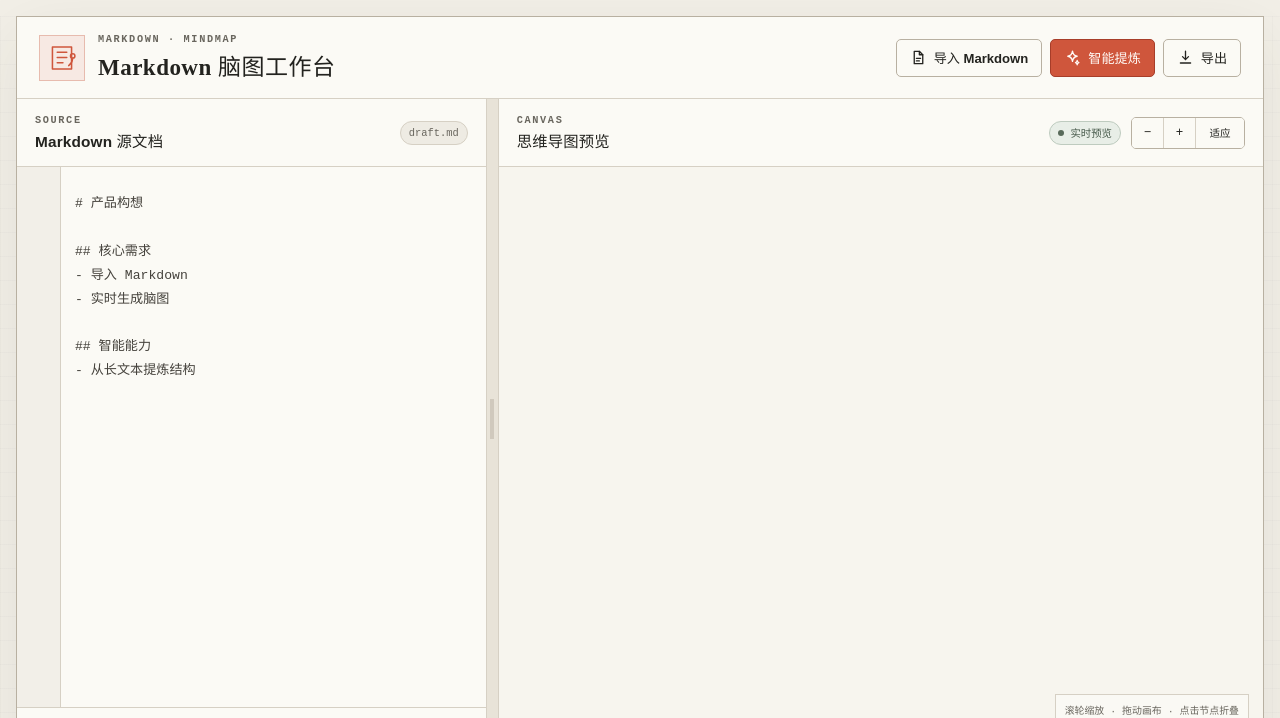
Test case: 应用工作台 › 打开智能提炼窗口并说明文本处理方式
The image size is (1280, 718).
Click the button "智能提炼" at (1103, 58), box x1=1050 y1=38 x2=1155 y2=76
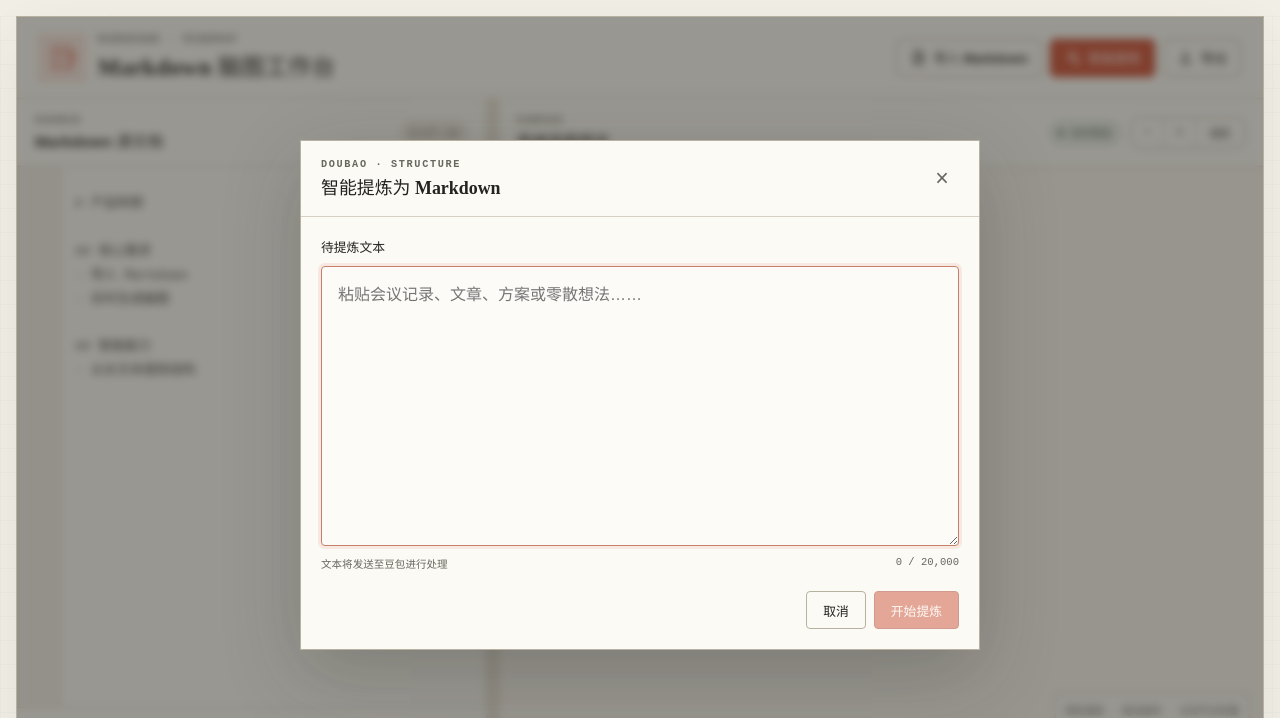
Expected: the text box labelled "待提炼文本" is shown, x1=321 y1=266 x2=959 y2=546
Expected: the text "文本将发送至豆包进行处理" is shown, x1=321 y1=556 x2=448 y2=571
Expected: the button "开始提炼" is disabled, x1=874 y1=591 x2=959 y2=629
